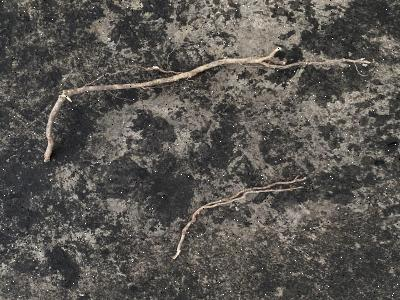Root: (44, 47, 370, 162), (173, 176, 306, 259)
